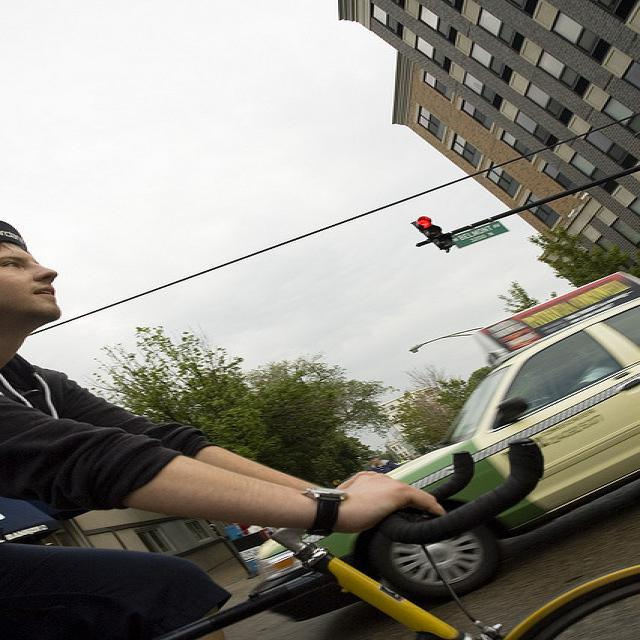Vehicle: (247, 297, 640, 621)
